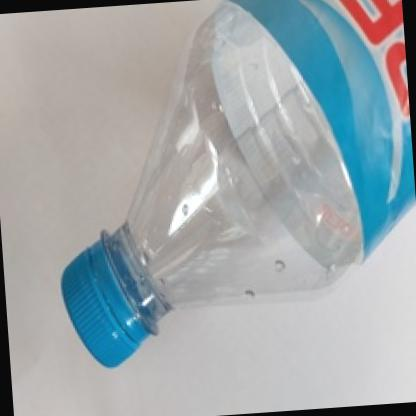plastic_bottles: (39, 0, 416, 381)
